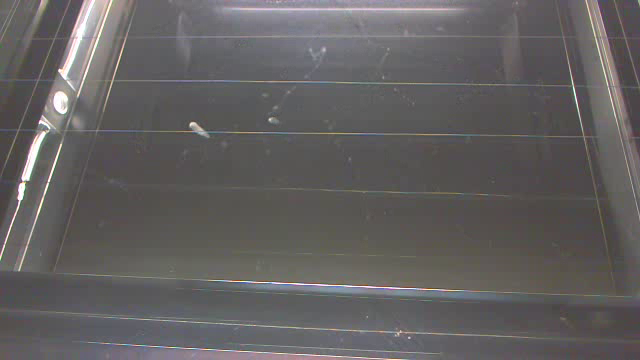alpha: (189, 121, 208, 137), (268, 116, 278, 123)
